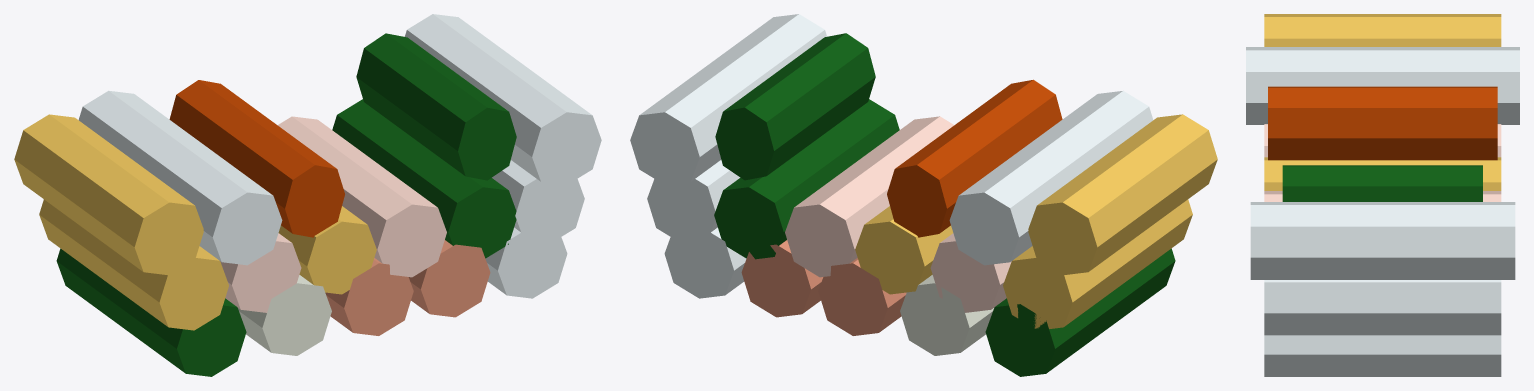
Rendered from Laundry_towels1.fbx.
The picture shows the model from 3 angles, left to right: view 1: azimuth 30°, elevation 25°; view 2: azimuth 150°, elevation 25°; view 3: azimuth 270°, elevation 25°; orthographic projection.
Parts seen in each view (by area): view 1: Laundry_towels1; view 2: Laundry_towels1; view 3: Laundry_towels1.
Part boxes in pixels (bbox=[...]): Laundry_towels1: bbox=[14, 14, 601, 376]; Laundry_towels1: bbox=[630, 14, 1217, 376]; Laundry_towels1: bbox=[1246, 14, 1519, 376].
Size of the model in its own units: 72.05 by 37.68 by 28.86.
